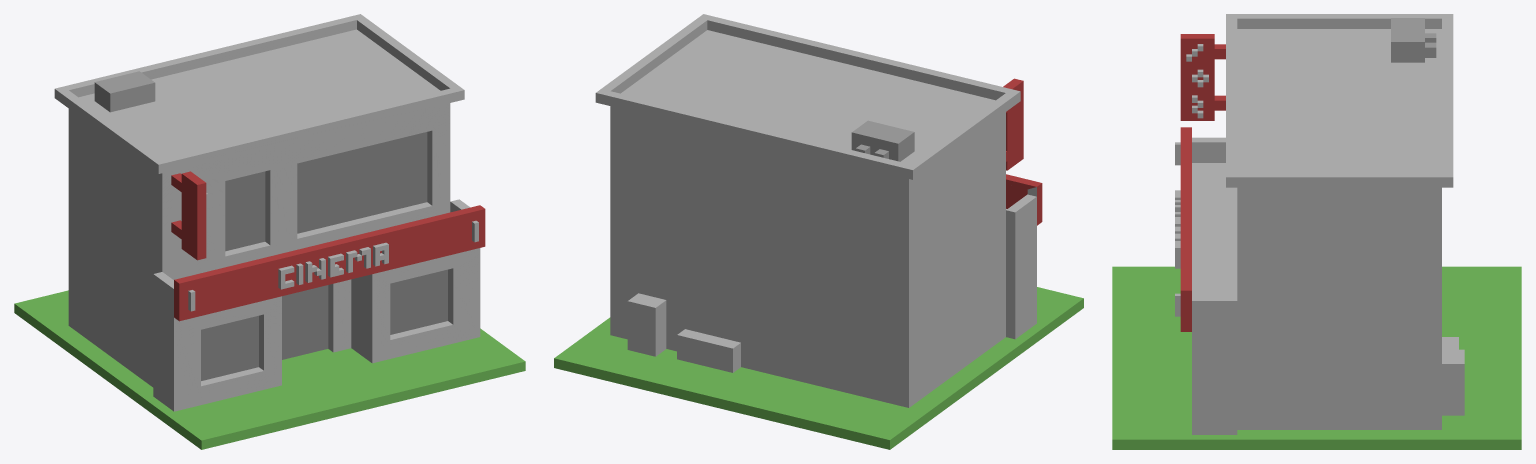
3 views of the same model, side by side, from view 1: azimuth 30°, elevation 25°; view 2: azimuth 150°, elevation 25°; view 3: azimuth 270°, elevation 25° (orthographic). The views are drawn at different scales.
Parts seen in each view (by area): view 1: 11; view 2: 11; view 3: 11.
Boxes of the visible parts, box(x1,y1,x2,y2) form: 11: box(14, 14, 525, 449); 11: box(554, 14, 1083, 449); 11: box(1112, 14, 1521, 449).
Size of the model in its own units: 900 by 675 by 900.
